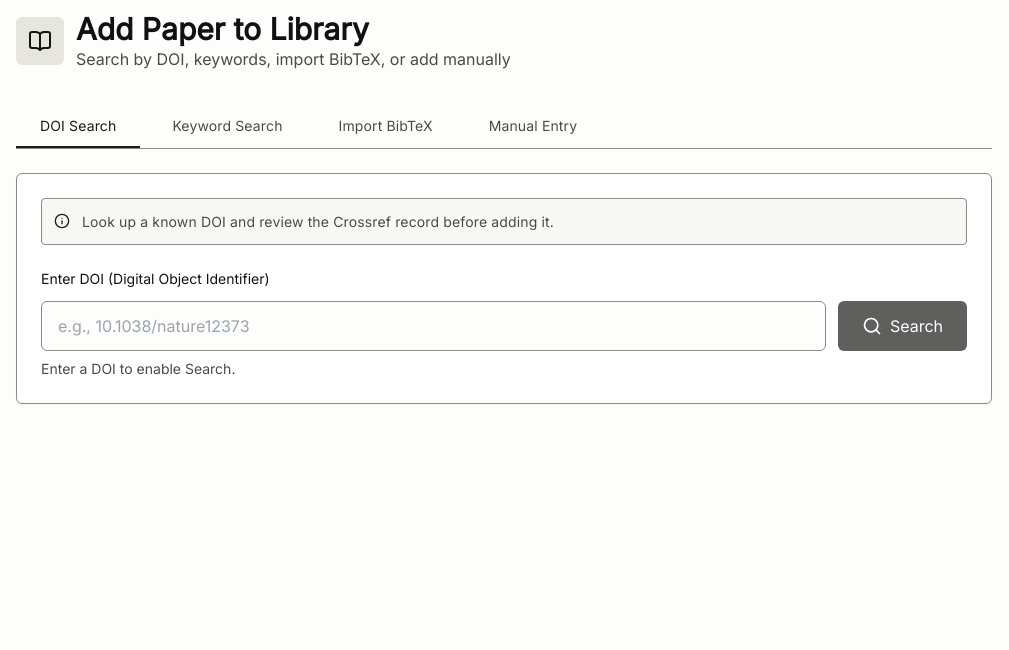
Scenario: AddPaperView Accessibility › should have role="status" for success messages
This screenshot has width=1009, height=650.
In the field with placeholder "e.g., 10.1038/nature12373": (433, 326) [41,301,826,351], type "10.1234/success"
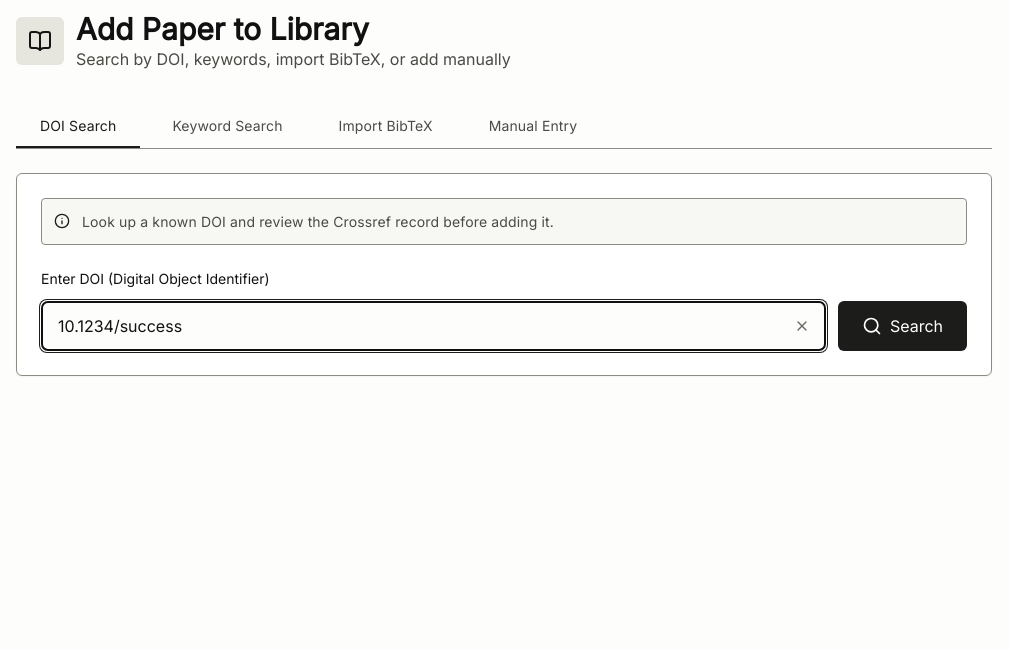
Click the button "Search": (902, 326) [838,301,967,351]
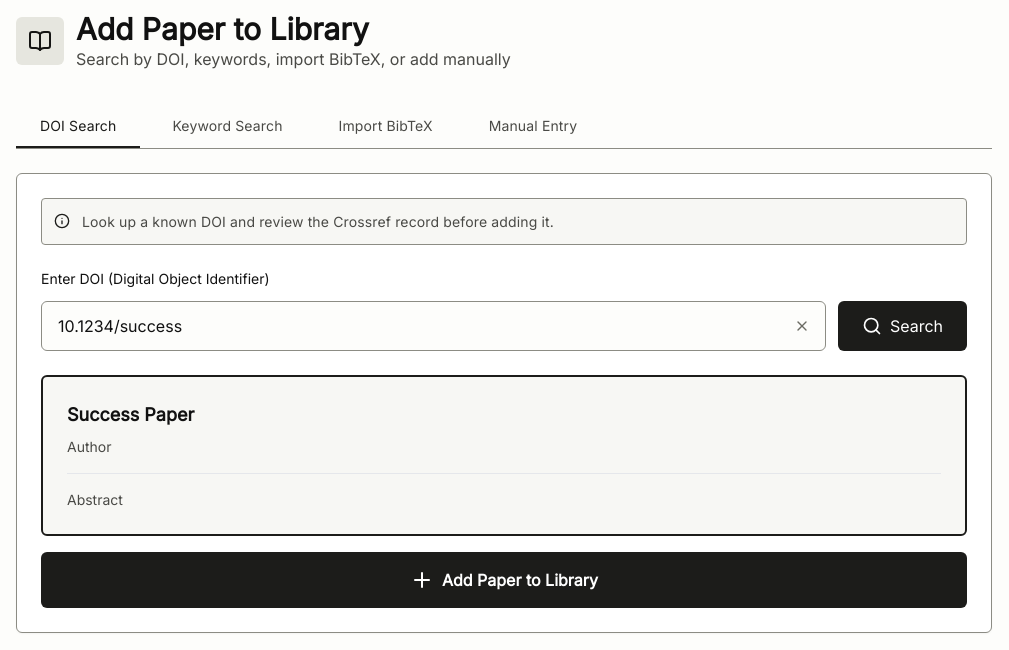
Result: the heading "Success Paper" is shown at [67,404,194,425]
Click the button "Add Paper to Library": (504, 580) [41,552,967,608]
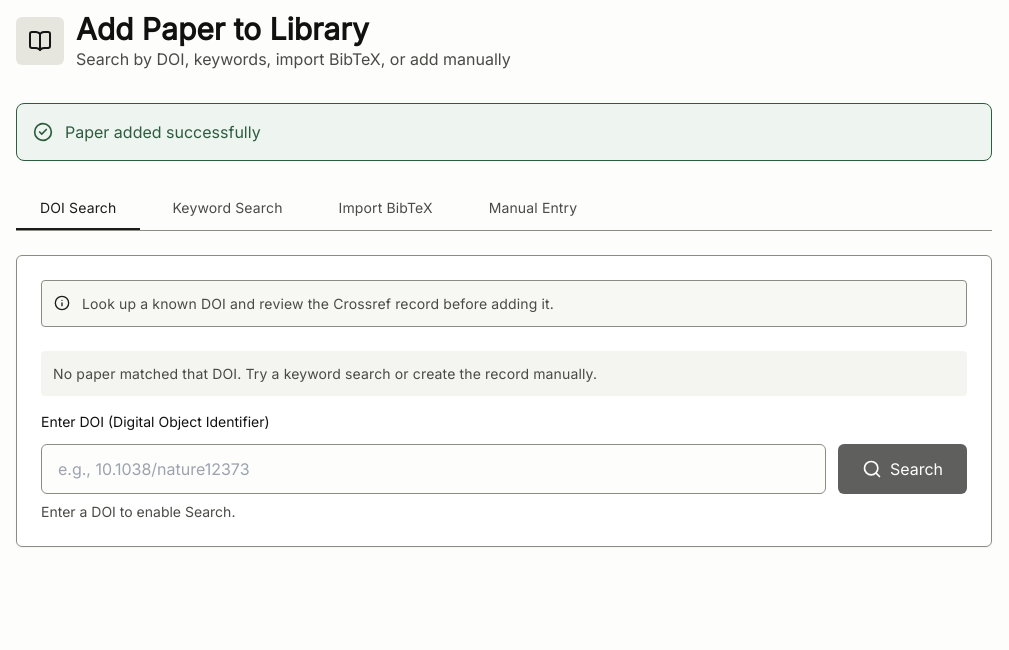
Result: the message reads "Paper added successfully" at [65,122,261,142]
